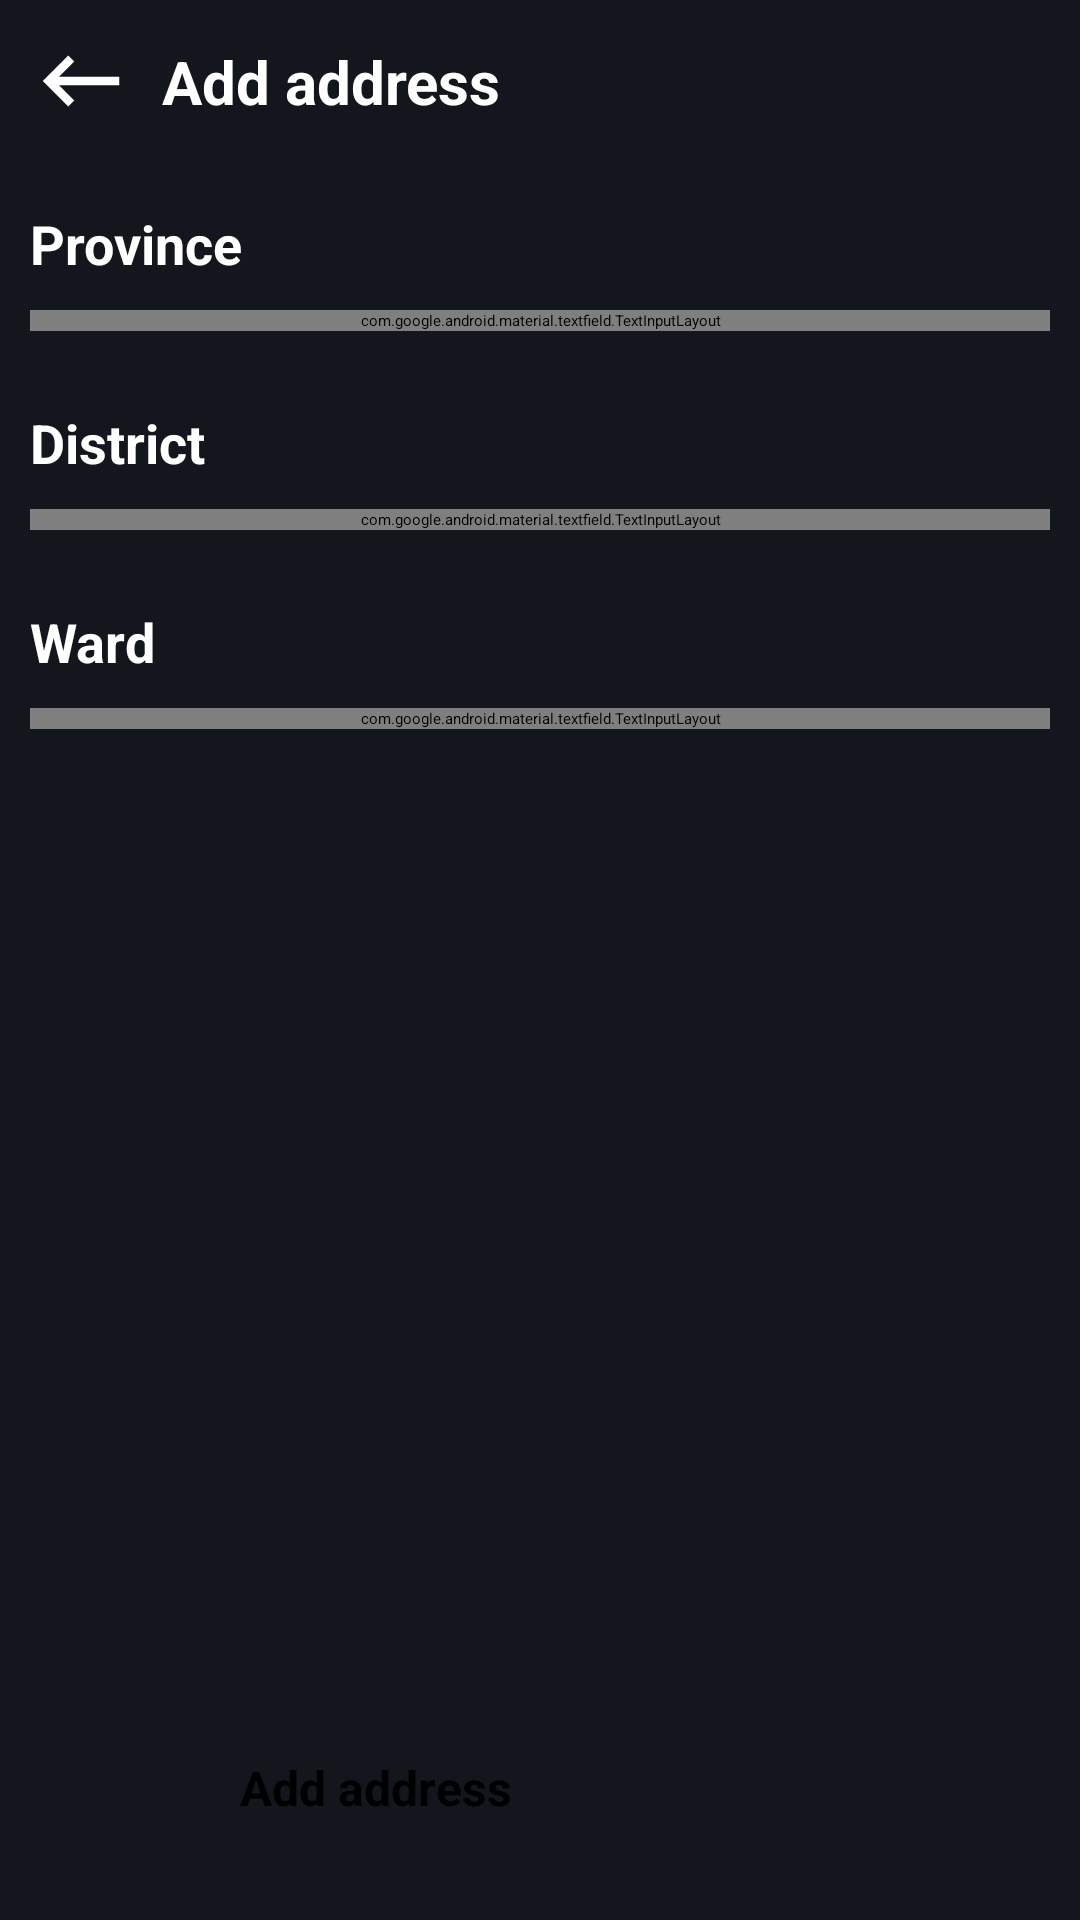

Screen size 1080x1920. Icon name, then its box in pixels as (x1, y1, x2, y2):
keyboard backspace: (43, 55, 120, 107)
